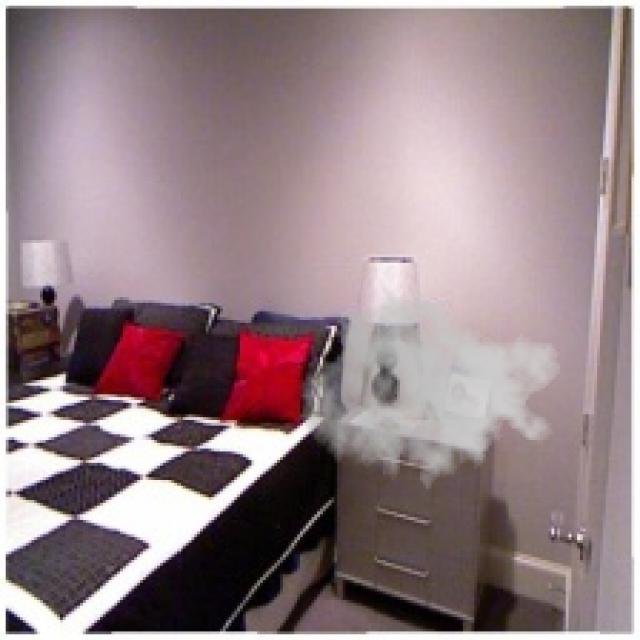smoke: (300, 283, 563, 500)
